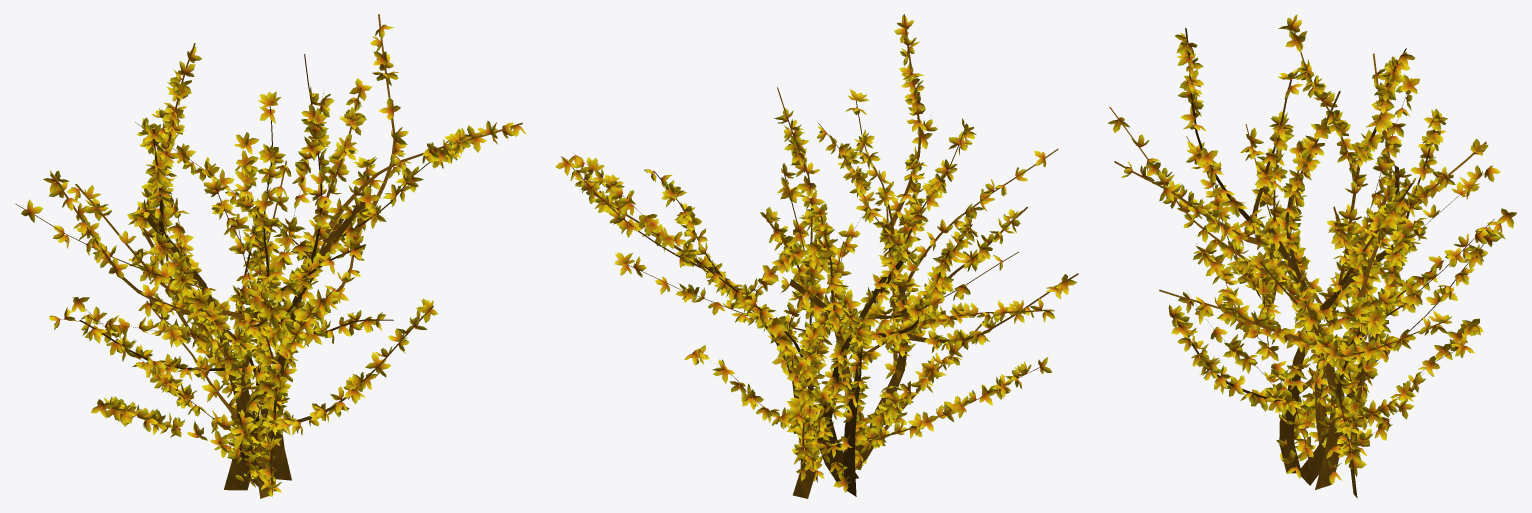
The model's file is forsythia_edited.fbx.
The picture shows the model from 3 angles, left to right: view 1: azimuth 30°, elevation 25°; view 2: azimuth 150°, elevation 25°; view 3: azimuth 270°, elevation 25°; orthographic projection. The views are drawn at different scales.
Visible parts, largest first — view 1: Forsythia; view 2: Forsythia; view 3: Forsythia.
Boxes of the visible parts, x1,y1,x2,y2 form: Forsythia: [15, 14, 525, 498]; Forsythia: [555, 14, 1078, 498]; Forsythia: [1108, 14, 1516, 498].
Bounding box in the file's own units: 21.37 × 18.87 × 15.34.
Materials: 1 (1 with a texture image).
